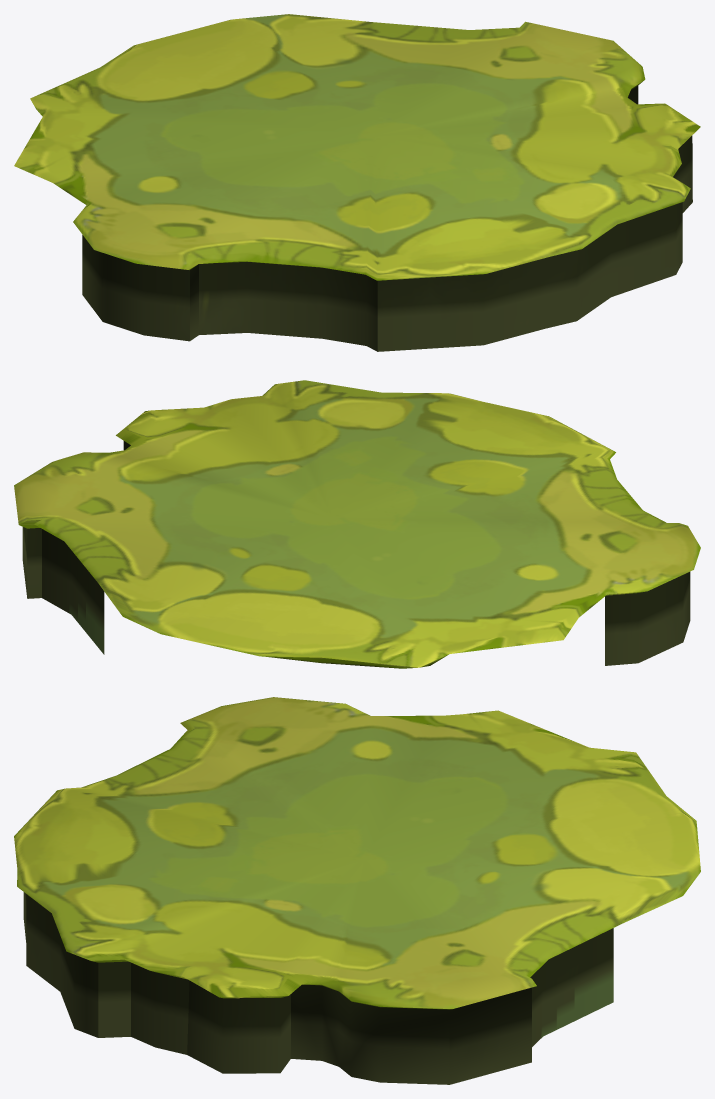
File: yunmengze_daoyu.FBX
3 renders of one model, top to bottom at view 1: azimuth 30°, elevation 25°; view 2: azimuth 150°, elevation 25°; view 3: azimuth 270°, elevation 25°, orthographic. The views are drawn at different scales.
Parts seen in each view (by area): view 1: Object003; view 2: Object003; view 3: Object003.
Boxes of the visible parts, bbox=[...] form: Object003: bbox=[14, 14, 700, 351]; Object003: bbox=[14, 380, 700, 668]; Object003: bbox=[14, 697, 700, 1084].
Bounding box in the file's own units: 153 × 19.18 × 142.
